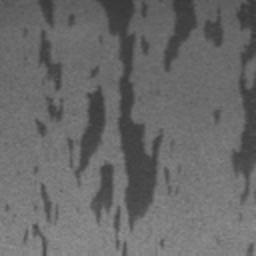Red iron sheet: (23, 0, 256, 256), (22, 184, 60, 256), (212, 108, 221, 125), (247, 242, 256, 255), (4, 205, 10, 214), (159, 238, 164, 248)
